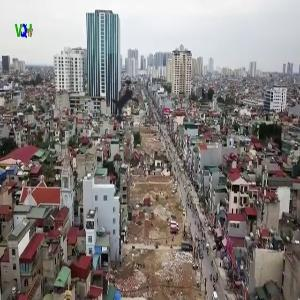drone: (89, 62, 166, 139)
